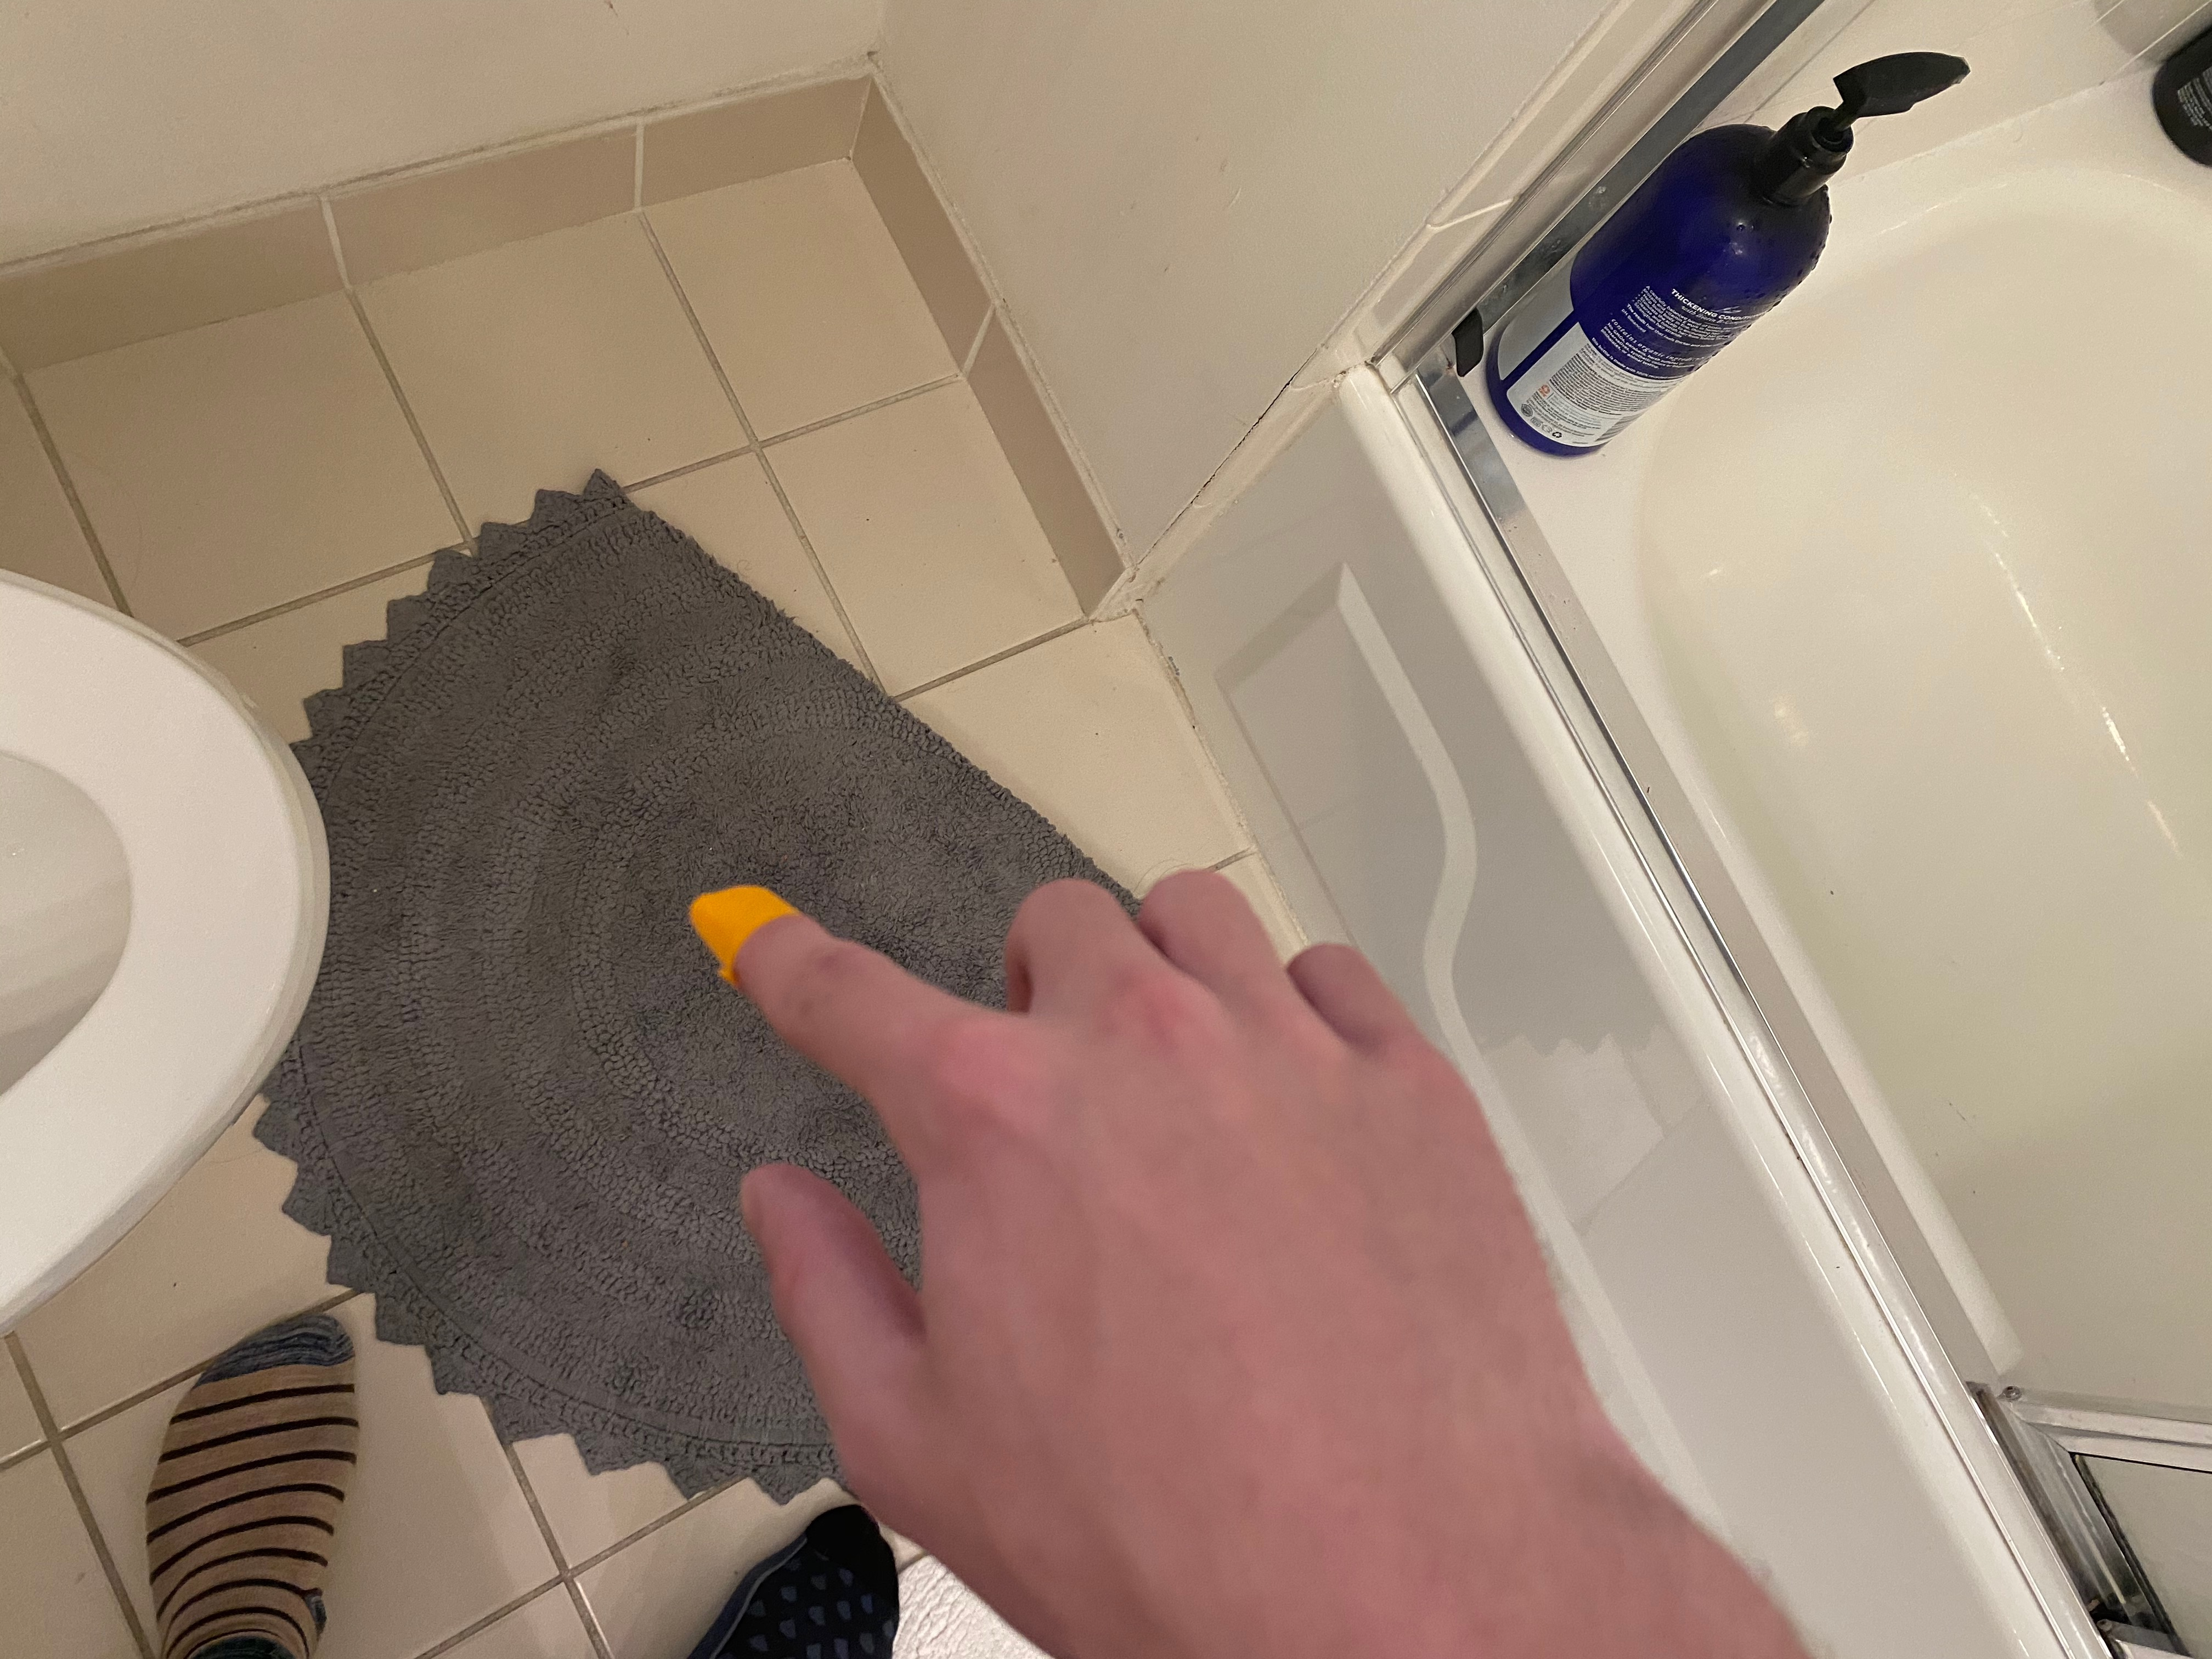fingertip: (648, 877, 878, 1011)
